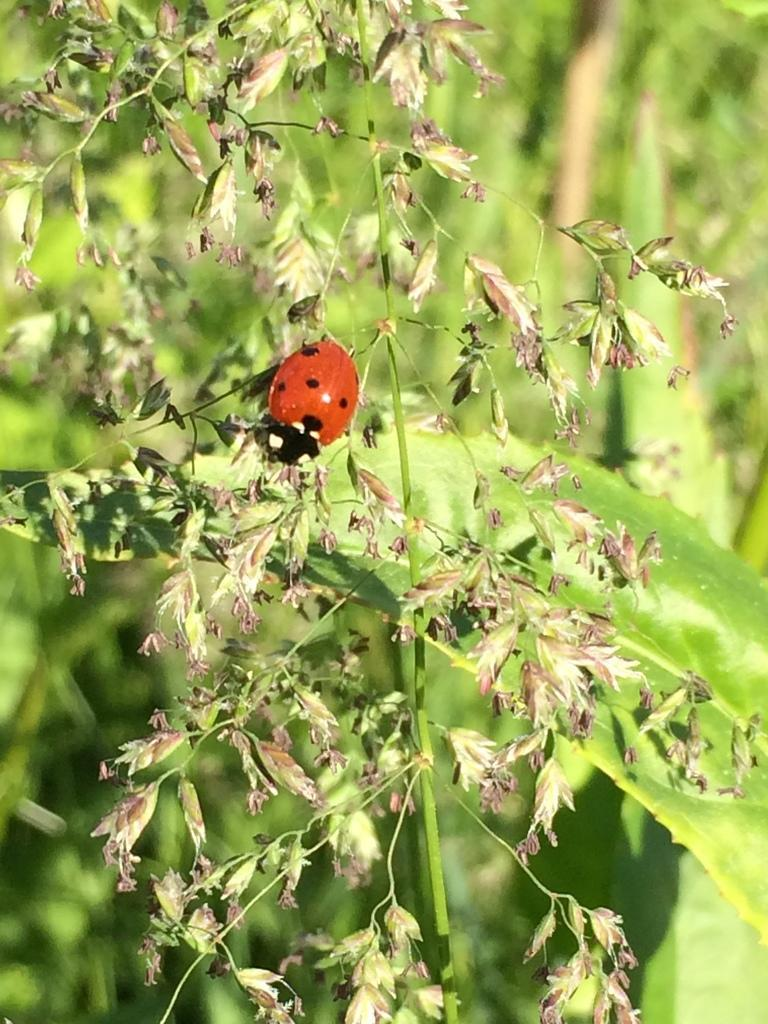ladybug: (264, 337, 360, 467)
